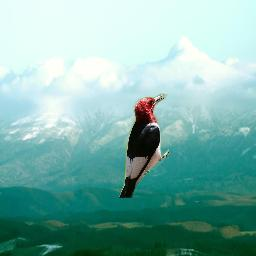Woodpecker: (117, 93, 169, 198)
